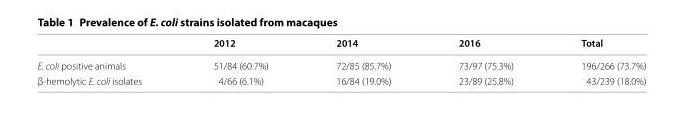table: (36, 36, 645, 86)
table column: (36, 36, 176, 86), (176, 36, 301, 86), (301, 36, 424, 86), (424, 36, 546, 86), (546, 36, 645, 86)
table column header: (36, 36, 645, 53)
table row: (36, 53, 645, 72), (36, 36, 645, 53), (36, 72, 645, 86)
